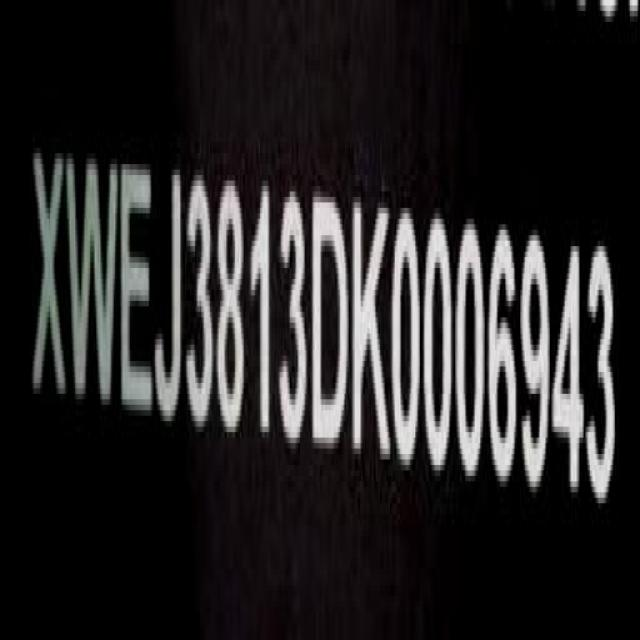0: (394, 201, 424, 470), (454, 214, 484, 481), (424, 215, 453, 478)
1: (252, 181, 275, 450)
3: (280, 183, 312, 459), (590, 244, 622, 513), (187, 167, 216, 440)
4: (551, 240, 584, 505)
6: (489, 228, 520, 492)
8: (216, 174, 246, 446)
9: (521, 240, 550, 498)
D: (313, 189, 350, 462)
E: (121, 157, 156, 430)
J: (155, 163, 184, 434)
K: (353, 198, 389, 470)
W: (70, 142, 120, 423)
X: (31, 139, 69, 420)
